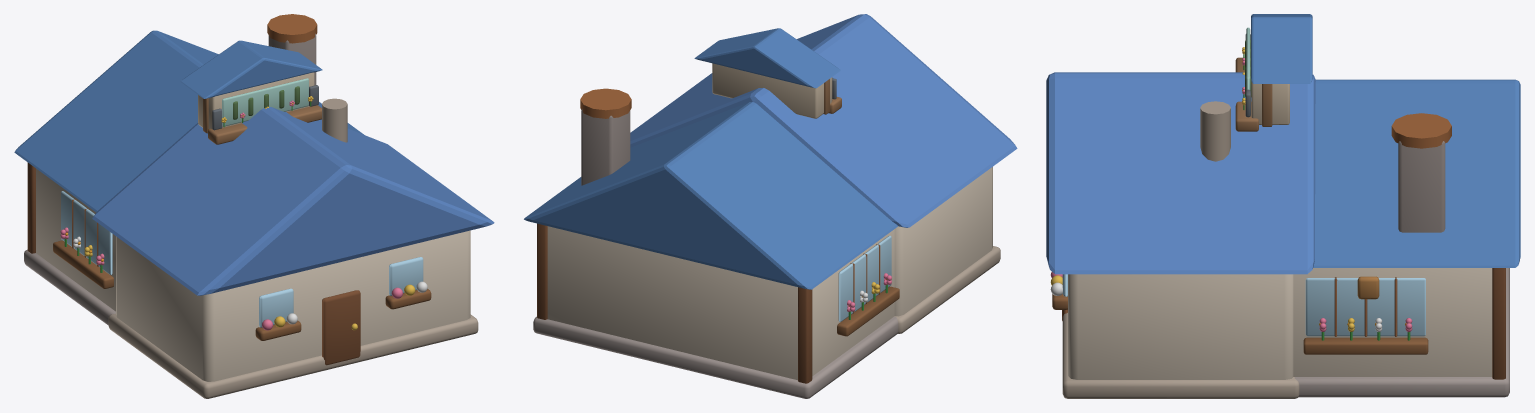
File: kitchen3.glb
3 renders of one model, left to right at view 1: azimuth 30°, elevation 25°; view 2: azimuth 150°, elevation 25°; view 3: azimuth 270°, elevation 25°, orthographic. The views are drawn at different scales.
Parts seen in each view (by area): view 1: base, crystal; view 2: base; view 3: base.
Part boxes in pixels (left/top/right/bottom): base: left=14, top=14, right=494, bottom=398; crystal: left=222, top=78, right=308, bottom=126; base: left=524, top=14, right=1017, bottom=398; base: left=1046, top=14, right=1520, bottom=398.
Size of the model in its own units: 4.81 by 3.89 by 5.52.
